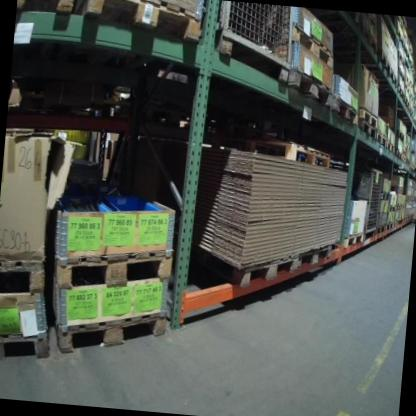pallet: (51, 236, 176, 301), (56, 298, 171, 361), (190, 240, 300, 294), (80, 0, 208, 45), (248, 131, 335, 165), (0, 319, 55, 366), (0, 251, 50, 300), (290, 236, 342, 281), (290, 24, 338, 65), (286, 68, 336, 107), (18, 0, 77, 20), (327, 96, 360, 130), (351, 22, 381, 54), (316, 9, 357, 23), (374, 47, 391, 80), (357, 106, 380, 129), (354, 121, 378, 143), (343, 229, 365, 252), (375, 128, 388, 151), (390, 64, 399, 95), (395, 81, 407, 104), (375, 223, 388, 237), (386, 140, 396, 156), (393, 128, 406, 140), (378, 190, 392, 201), (385, 222, 394, 236), (390, 185, 405, 193), (404, 95, 411, 111), (394, 149, 402, 162), (408, 160, 416, 172), (401, 154, 409, 165), (393, 218, 400, 230), (388, 206, 397, 215), (394, 203, 402, 213)
small_load_carrier: (103, 196, 169, 218), (57, 195, 111, 220)
stillage: (209, 0, 299, 91), (346, 162, 387, 245)
